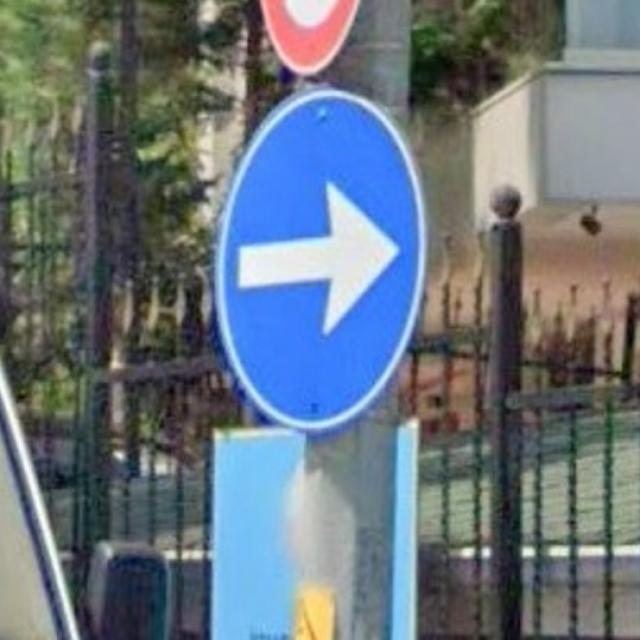Turn Right: (200, 85, 421, 431)
